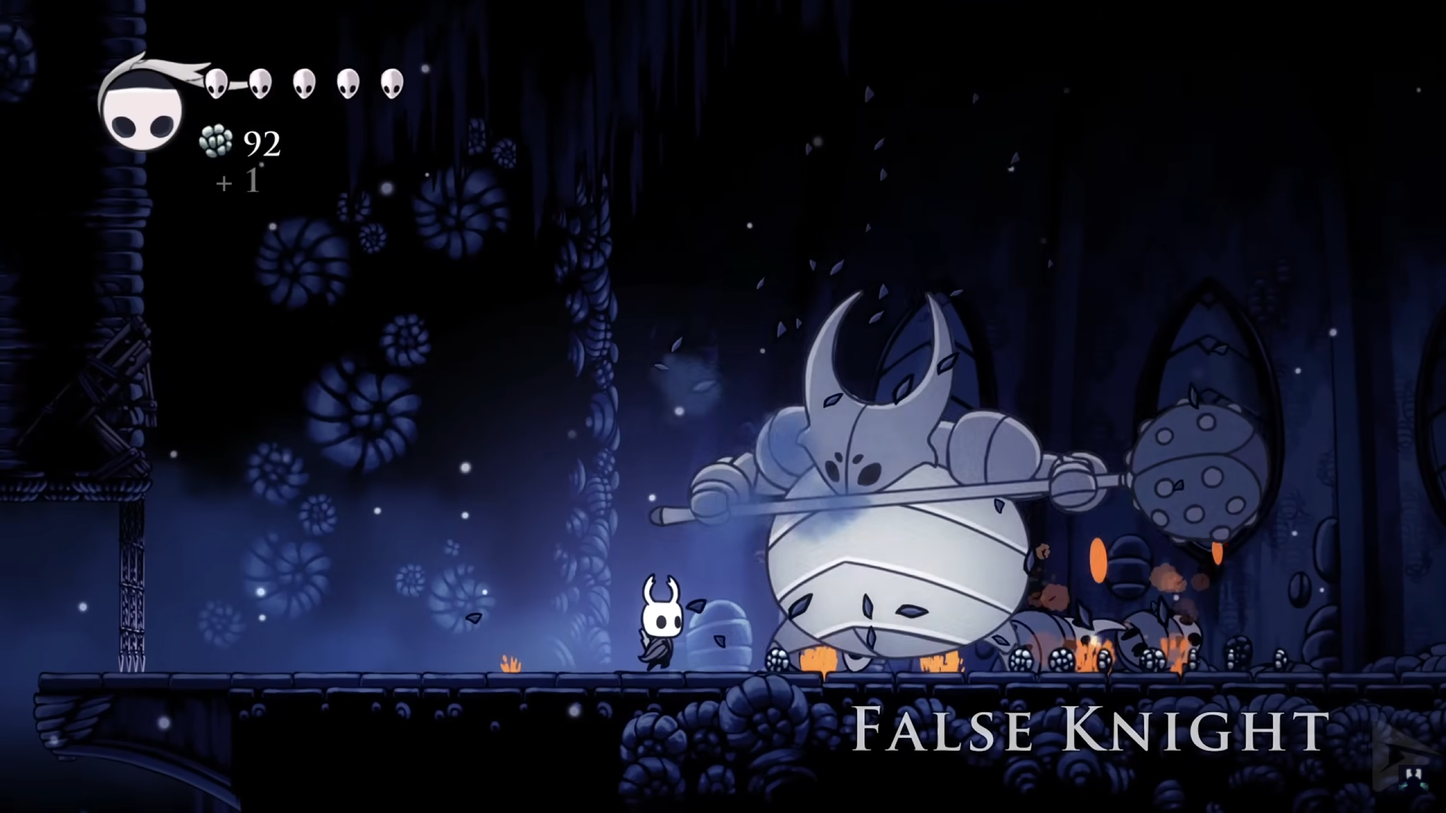HK: (636, 575, 683, 671)
